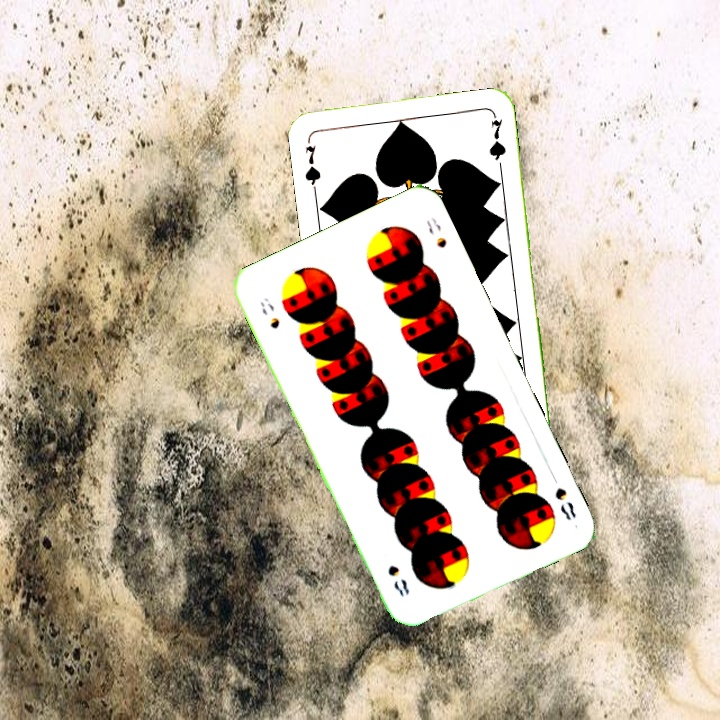G7: (300, 141, 324, 193)
S8: (550, 483, 579, 523), (256, 293, 283, 332)
